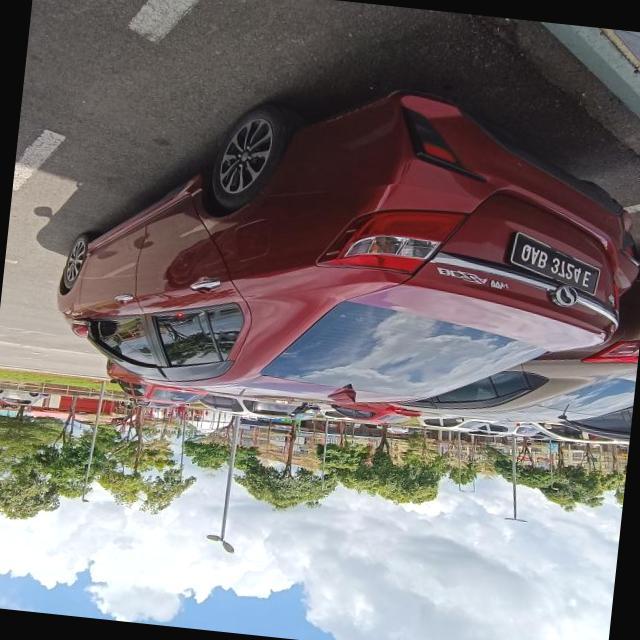PeroduaBezza: (46, 54, 640, 441)
